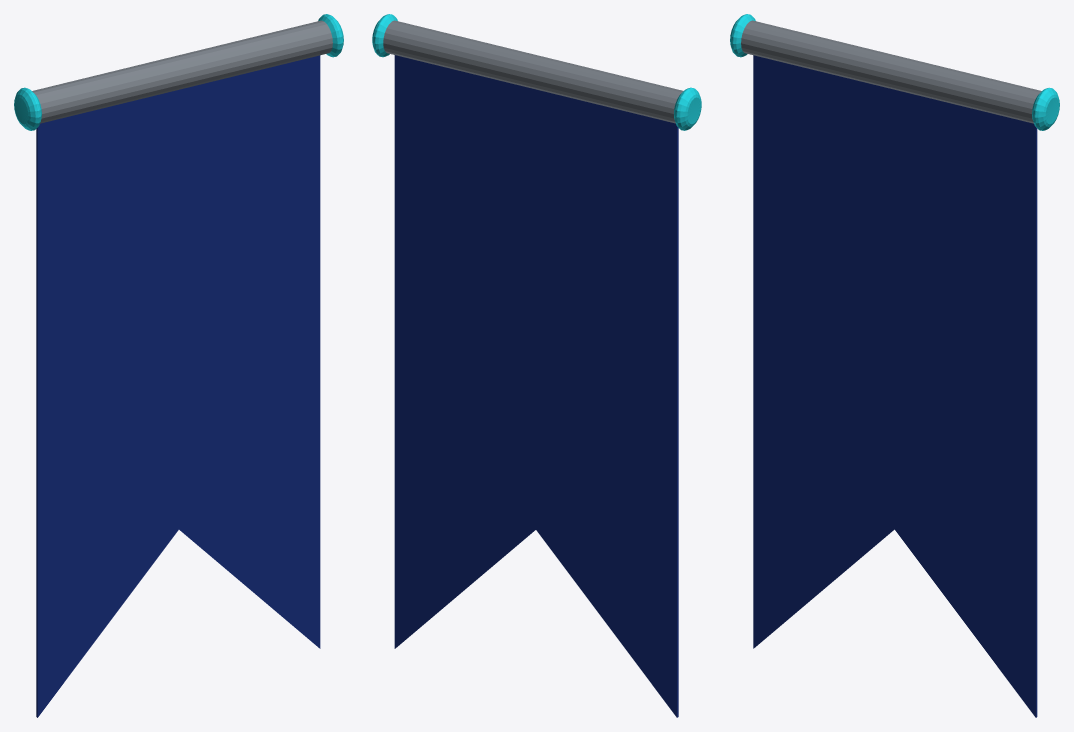
The model's file is stendardo mago texturizzato finale.fbx.
3 renders of one model, left to right at view 1: azimuth 30°, elevation 25°; view 2: azimuth 150°, elevation 25°; view 3: azimuth 330°, elevation 25°, orthographic.
Parts seen in each view (by area): view 1: pCylinder1; view 2: pCylinder1; view 3: pCylinder1.
Part boxes in pixels (x1,y1,x2,y2): pCylinder1: (14,14,343,717); pCylinder1: (372,14,701,717); pCylinder1: (730,14,1059,717).
Size of the model in its own units: 86.39 by 165 by 10.52.
